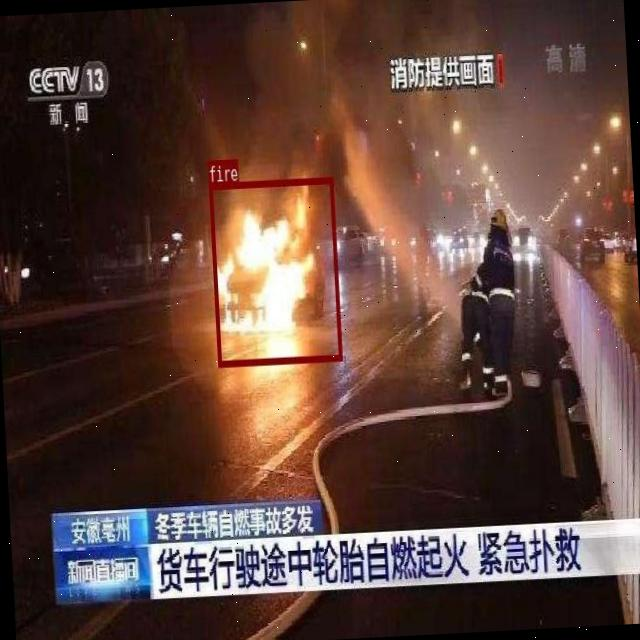fire: (208, 176, 342, 366)
